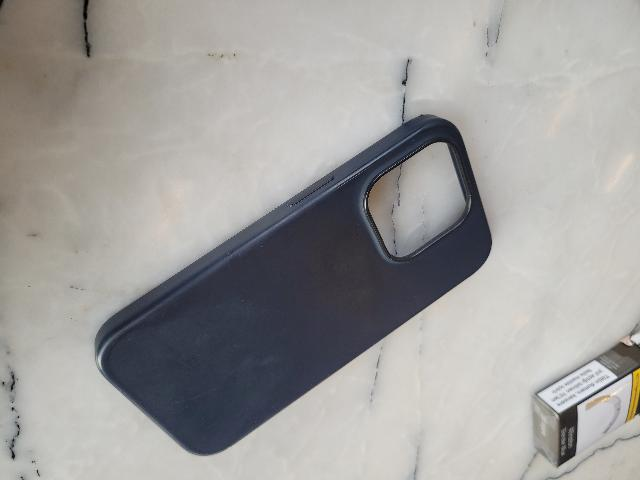Kagit: (530, 325, 640, 471)
Plastik: (89, 110, 497, 458)
